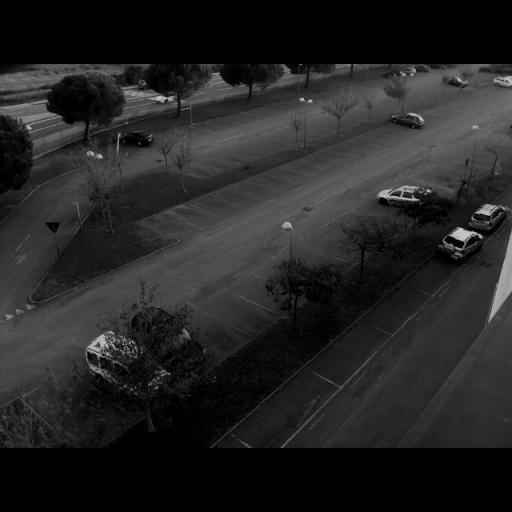busy: (132, 308, 206, 374), (85, 333, 147, 379), (436, 228, 482, 262), (374, 185, 431, 210), (462, 205, 509, 233), (120, 130, 156, 148), (387, 113, 426, 129), (441, 74, 466, 88), (492, 76, 510, 88), (398, 68, 416, 79)
free: (53, 388, 115, 442), (258, 396, 305, 430), (185, 316, 228, 350), (380, 294, 424, 324), (290, 242, 323, 276), (22, 238, 56, 269), (242, 274, 276, 304), (414, 263, 452, 287), (214, 302, 253, 324), (158, 218, 192, 242), (336, 338, 370, 360), (326, 237, 352, 256), (186, 208, 208, 229), (262, 261, 286, 277), (206, 198, 229, 212), (226, 192, 249, 206), (262, 178, 282, 192), (246, 186, 266, 198), (215, 117, 230, 128), (208, 164, 220, 176), (202, 121, 214, 132), (219, 158, 231, 168), (180, 126, 194, 133), (194, 170, 206, 178), (237, 112, 249, 120), (240, 149, 251, 157), (230, 154, 238, 162)
